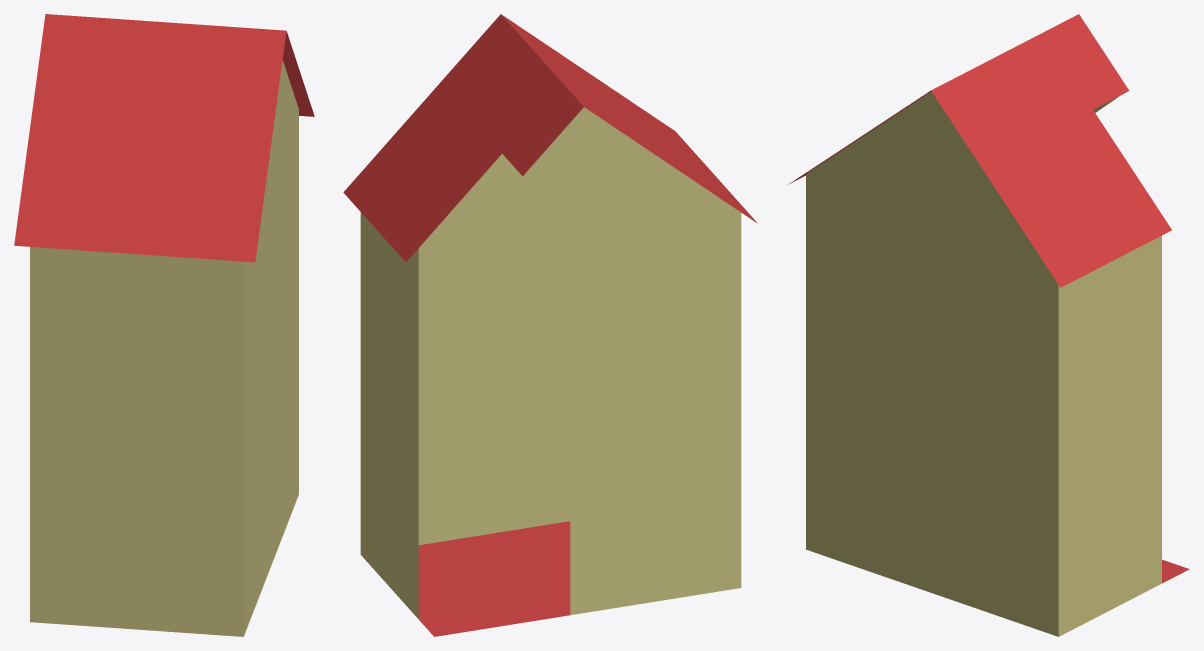
3 views of the same model, side by side, from view 1: azimuth 30°, elevation 25°; view 2: azimuth 150°, elevation 25°; view 3: azimuth 270°, elevation 25° (orthographic). The views are drawn at different scales.
Size of the model in its own units: 7.58 by 7.55 by 10.53.
